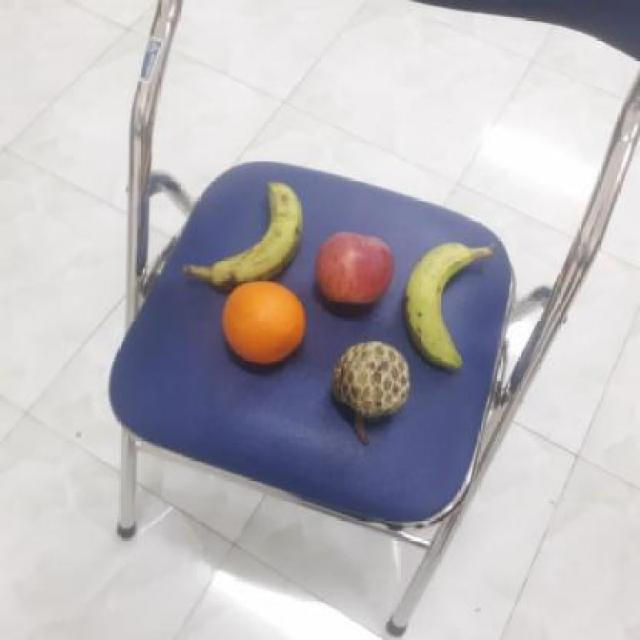apple: (316, 231, 398, 311)
banana: (194, 178, 306, 287), (402, 242, 496, 368)
oren: (219, 279, 307, 370)
sugar apple: (330, 337, 412, 418)
